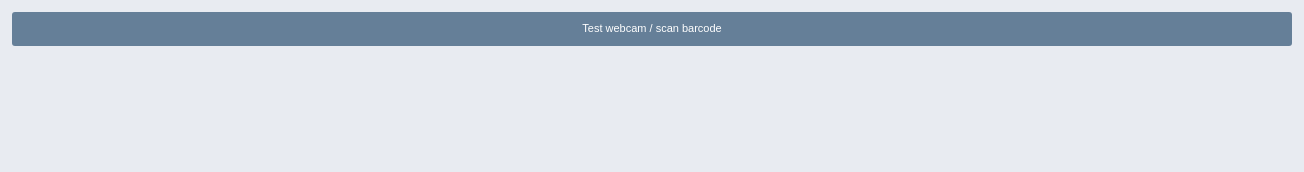
CameraBarcodeScanner › shows a clear error when webcam permission is denied
The image size is (1304, 172).
Click the button "Test webcam / scan barcode".
click(652, 29)  # box [12,12,1292,46]
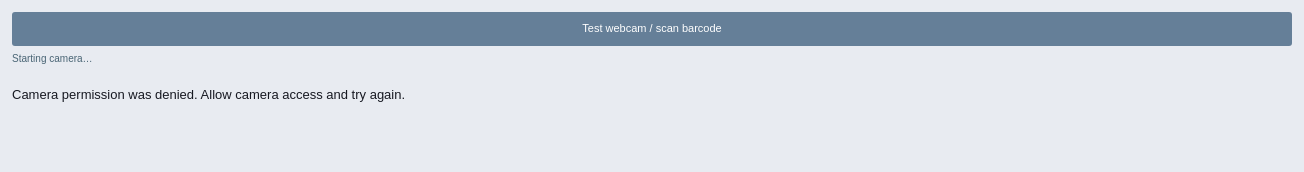
Expected: the message "Camera permission was denied. Allow camera access and try again." is shown, [12,86,405,102]
